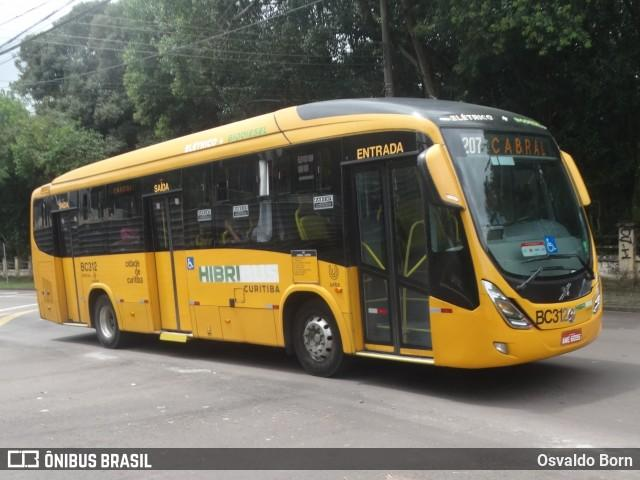CABRAL: (485, 131, 551, 157)
